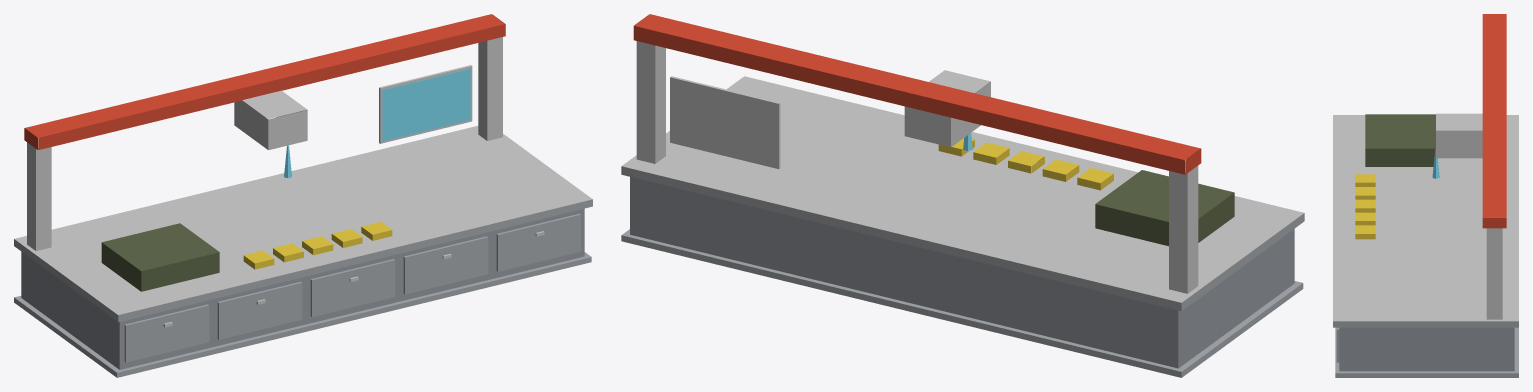
The model's file is fabrication_bench.obj.
3 renders of one model, left to right at view 1: azimuth 30°, elevation 25°; view 2: azimuth 150°, elevation 25°; view 3: azimuth 270°, elevation 25°, orthographic. The views are drawn at different scales.
Visible parts, largest first — view 1: fabrication_bench; view 2: fabrication_bench; view 3: fabrication_bench.
Part boxes in pixels (x1,y1,x2,y2): fabrication_bench: (14, 14, 592, 377); fabrication_bench: (621, 14, 1304, 377); fabrication_bench: (1333, 14, 1518, 377).
Bounding box in the file's own units: 4.84 × 1.74 × 1.84.
